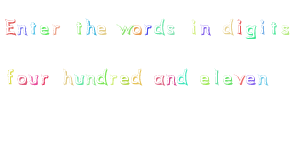E: (3, 17, 17, 36)
a: (153, 73, 165, 85)
d: (96, 67, 109, 85), (130, 67, 143, 85), (176, 67, 189, 85), (222, 18, 234, 35), (153, 18, 165, 34)
e: (96, 23, 108, 36), (118, 73, 130, 86), (222, 74, 233, 86), (245, 73, 256, 85), (38, 24, 49, 35), (200, 74, 210, 86)
f: (5, 68, 14, 84)
g: (244, 24, 257, 40)
h: (85, 16, 97, 35), (62, 67, 73, 85)
i: (259, 18, 267, 35), (236, 18, 243, 35), (190, 18, 197, 34)
l: (214, 67, 219, 85)
n: (199, 24, 212, 36), (166, 73, 177, 86), (16, 24, 28, 35), (86, 73, 96, 85), (258, 74, 268, 85)
o: (131, 23, 142, 35), (16, 74, 27, 85)
r: (109, 73, 118, 86), (51, 23, 60, 35), (143, 23, 152, 35), (40, 75, 49, 86)
s: (281, 24, 290, 36), (166, 24, 175, 35)
t: (29, 21, 38, 34), (270, 21, 277, 35), (75, 22, 82, 35)
u: (28, 74, 40, 85), (73, 73, 85, 84)
v: (234, 74, 246, 85)
w: (116, 24, 134, 35)
